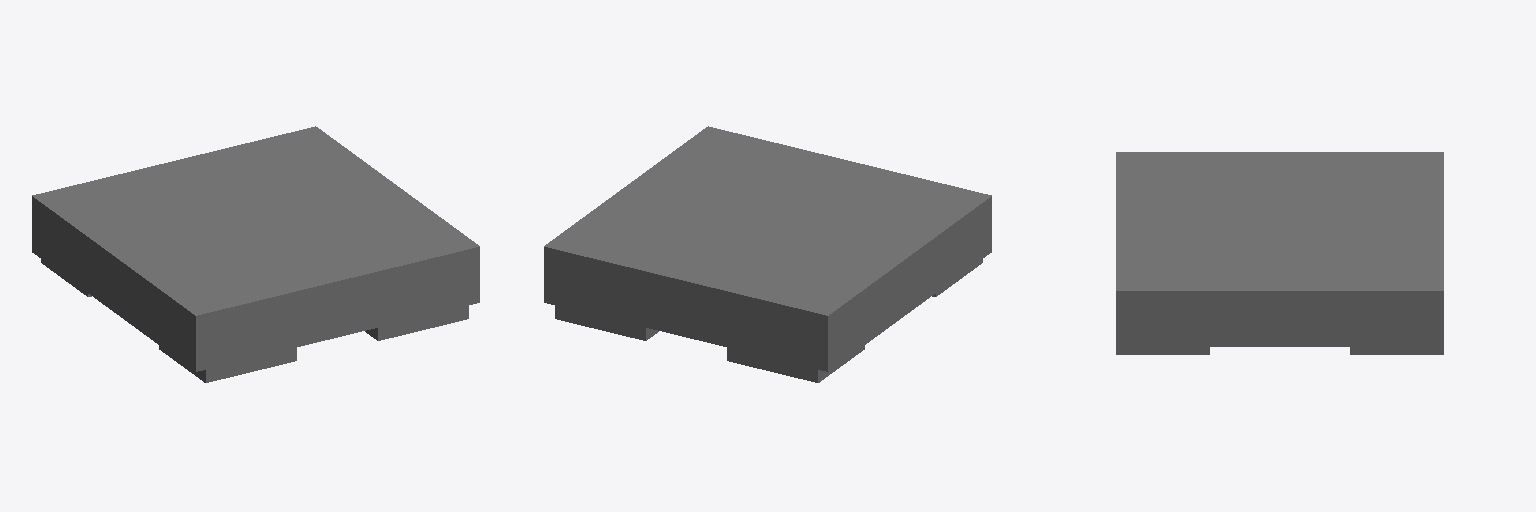
File: Xtisch.obj
3 renders of one model, left to right at view 1: azimuth 30°, elevation 25°; view 2: azimuth 150°, elevation 25°; view 3: azimuth 270°, elevation 25°, orthographic.
Visible parts, largest first — view 1: xtisch_Mesh.005_tisch-z; view 2: xtisch_Mesh.005_tisch-z; view 3: xtisch_Mesh.005_tisch-z.
Part boxes in pixels (left/top/right/bottom): xtisch_Mesh.005_tisch-z: left=32, top=126, right=479, bottom=382; xtisch_Mesh.005_tisch-z: left=544, top=126, right=991, bottom=382; xtisch_Mesh.005_tisch-z: left=1116, top=152, right=1443, bottom=354.
Size of the model in its own units: 175 by 41 by 175.